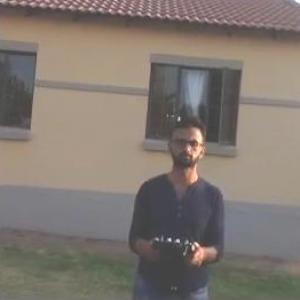follow: (120, 103, 226, 299)
